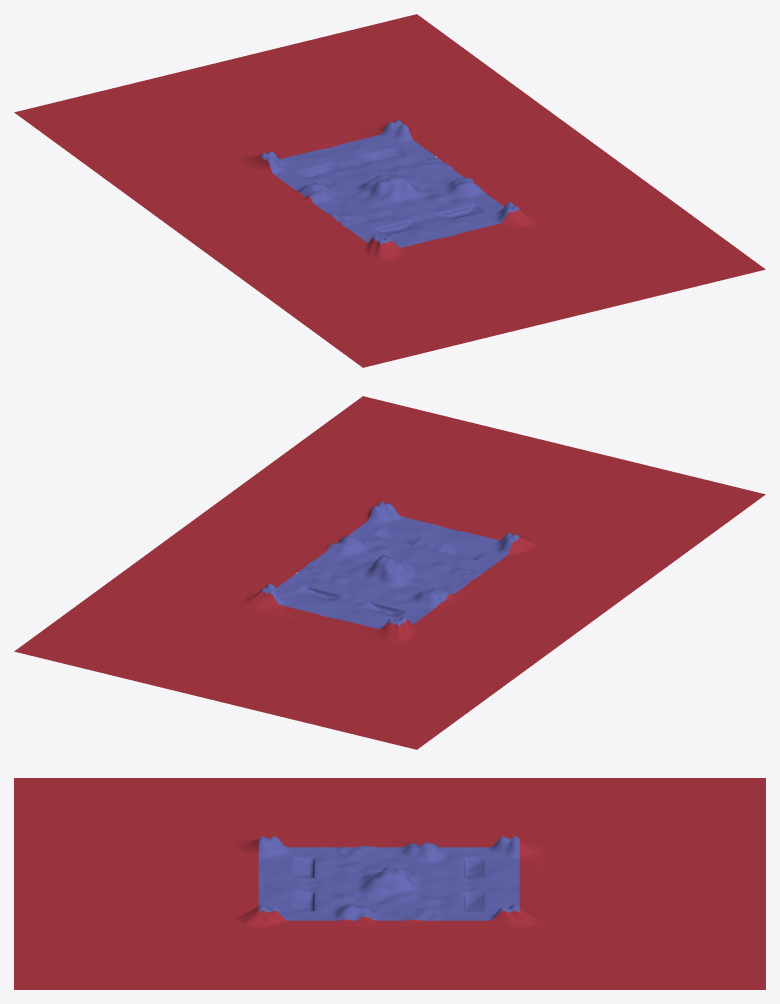
File: 3D_Map_Extension_001.FBX
3 views of the same model, one above another, from view 1: azimuth 30°, elevation 25°; view 2: azimuth 150°, elevation 25°; view 3: azimuth 270°, elevation 25° (orthographic). The views are drawn at different scales.
Visible parts, largest first — view 1: Object001, Plane001; view 2: Object001, Plane001; view 3: Object001, Plane001.
Part boxes in pixels (x1,y1,x2,y2): Object001: (14, 14, 765, 367); Plane001: (261, 120, 520, 247); Object001: (14, 396, 765, 749); Plane001: (260, 501, 519, 629); Object001: (14, 778, 765, 989); Plane001: (258, 836, 519, 920).
Size of the model in its own units: 11356 by 494 by 17033.
